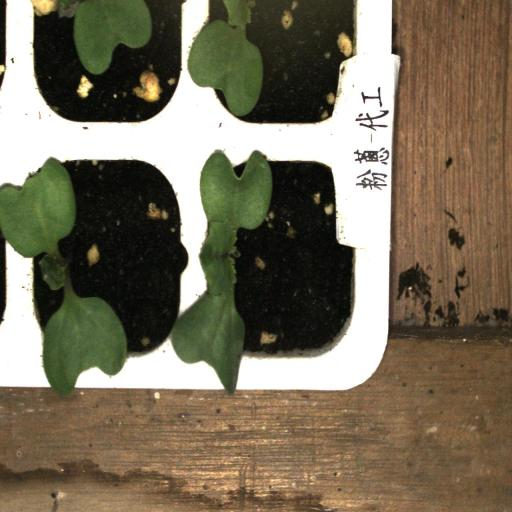Folha: (187, 0, 272, 117), (58, 0, 153, 75)
Germinacao: (192, 143, 364, 373), (24, 146, 190, 364)
